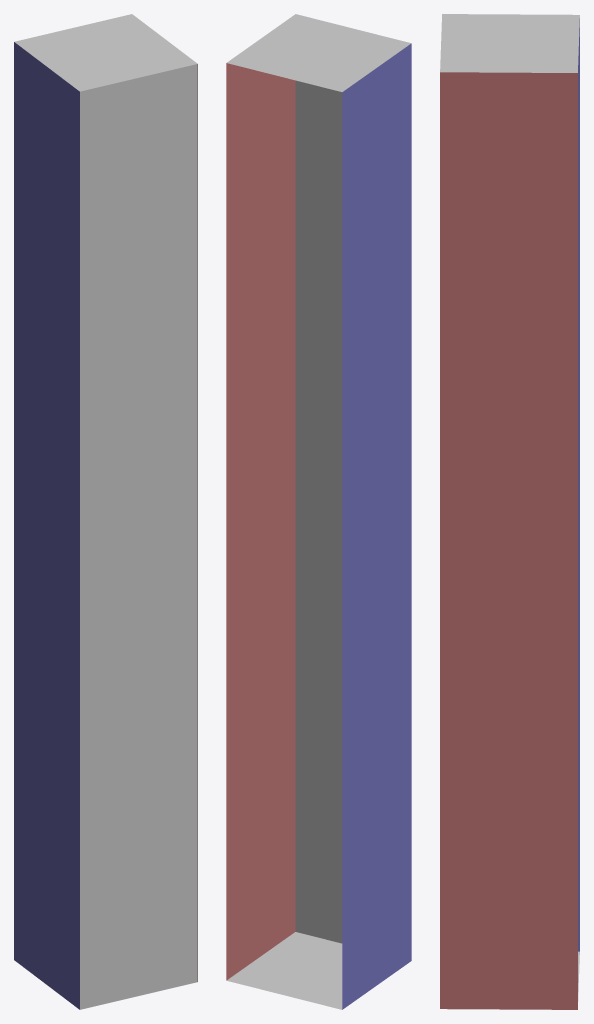
Rendered from lam.dae.
3 views of the same model, side by side, from view 1: azimuth 30°, elevation 25°; view 2: azimuth 150°, elevation 25°; view 3: azimuth 270°, elevation 25° (orthographic). The views are drawn at different scales.
Parts seen in each view (by area): view 1: backWall, rightWall, ceiling, leftWall; view 2: rightWall, leftWall, backWall, ceiling, floor; view 3: leftWall, ceiling, rightWall.
Part boxes in pixels (bbox=[...]): backWall: bbox=[80, 64, 197, 1009]; rightWall: bbox=[14, 42, 79, 1009]; ceiling: bbox=[14, 14, 197, 91]; leftWall: bbox=[197, 64, 197, 981]; rightWall: bbox=[342, 43, 411, 1009]; leftWall: bbox=[226, 63, 295, 980]; backWall: bbox=[295, 80, 342, 943]; ceiling: bbox=[227, 14, 410, 91]; floor: bbox=[227, 932, 342, 1009]; leftWall: bbox=[440, 72, 577, 1009]; ceiling: bbox=[440, 14, 579, 72]; rightWall: bbox=[578, 18, 579, 951].
Bounding box in the file's own units: 2.03 × 2.03 × 15.
